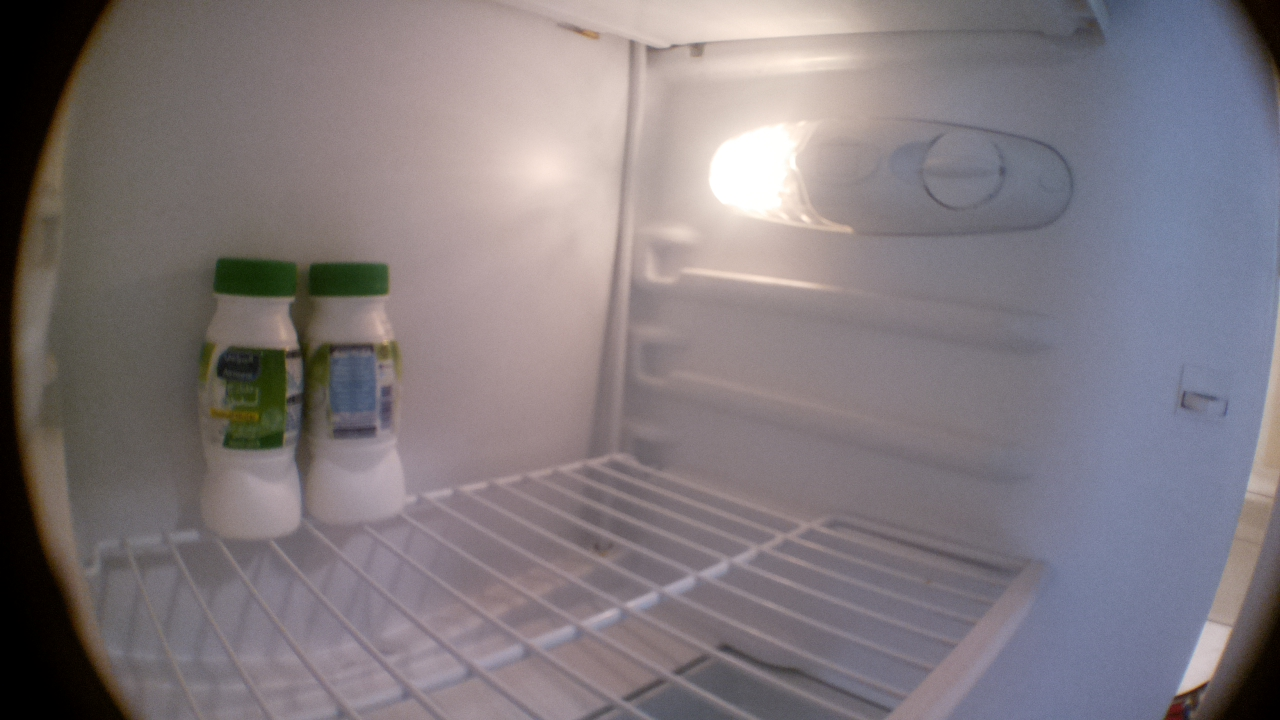laban: (193, 254, 303, 544), (298, 260, 405, 525)
